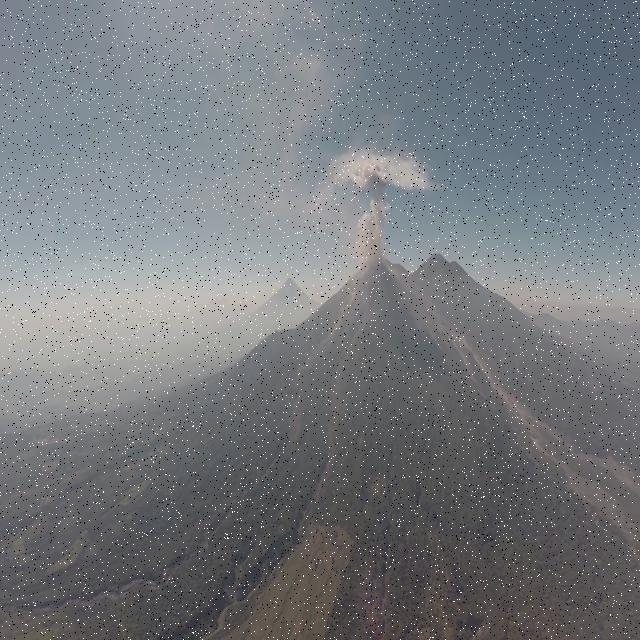Plume: (326, 154, 433, 194), (352, 194, 390, 264)
Summit: (350, 252, 404, 278)
